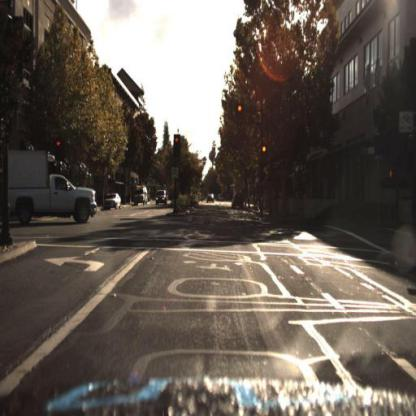car: (7, 151, 97, 225), (232, 193, 250, 211), (134, 186, 149, 207), (156, 189, 170, 208), (232, 194, 244, 212)
trafficLight: (260, 145, 268, 168), (238, 106, 244, 130)
trafficLight-RedLeft: (56, 136, 65, 161), (174, 137, 182, 155)
